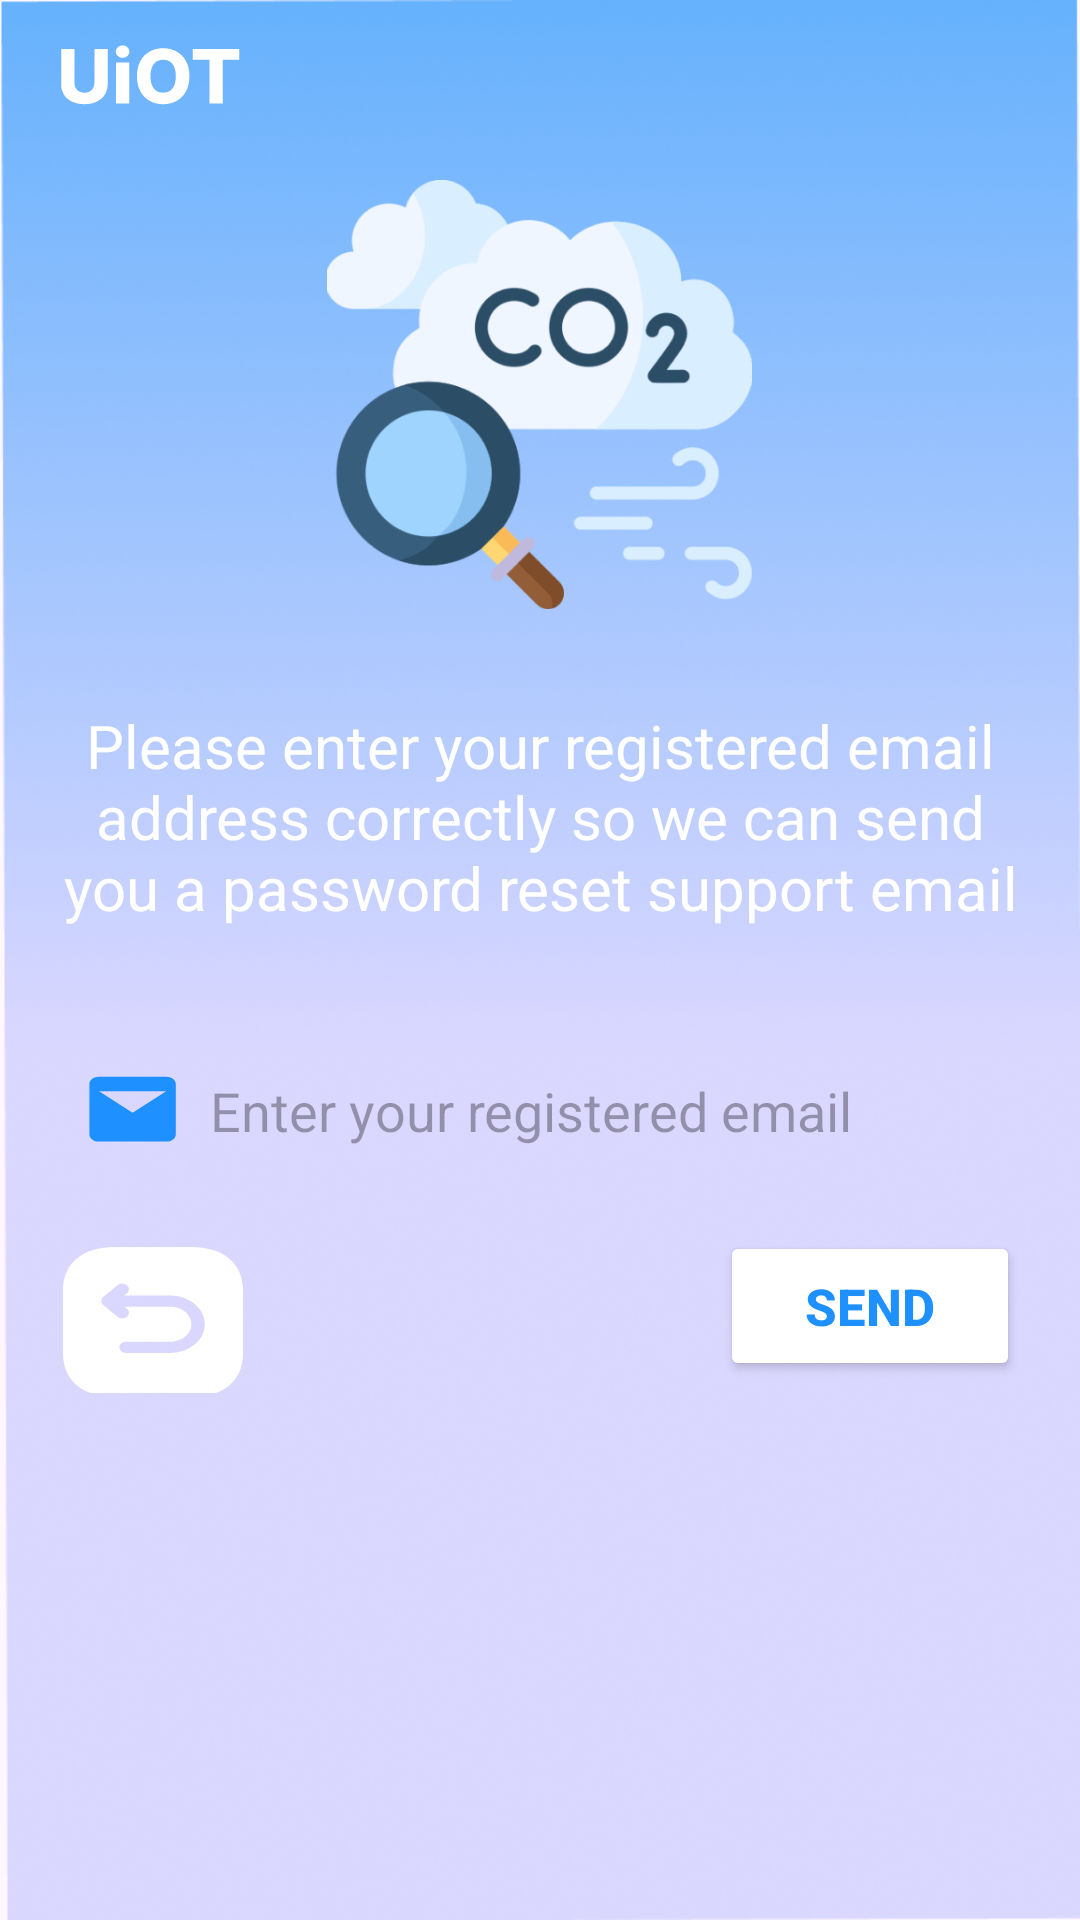

Named icons in this screenshot (1080 × 1920) and their centers, (x,y):
Back Button: (153,1320)
